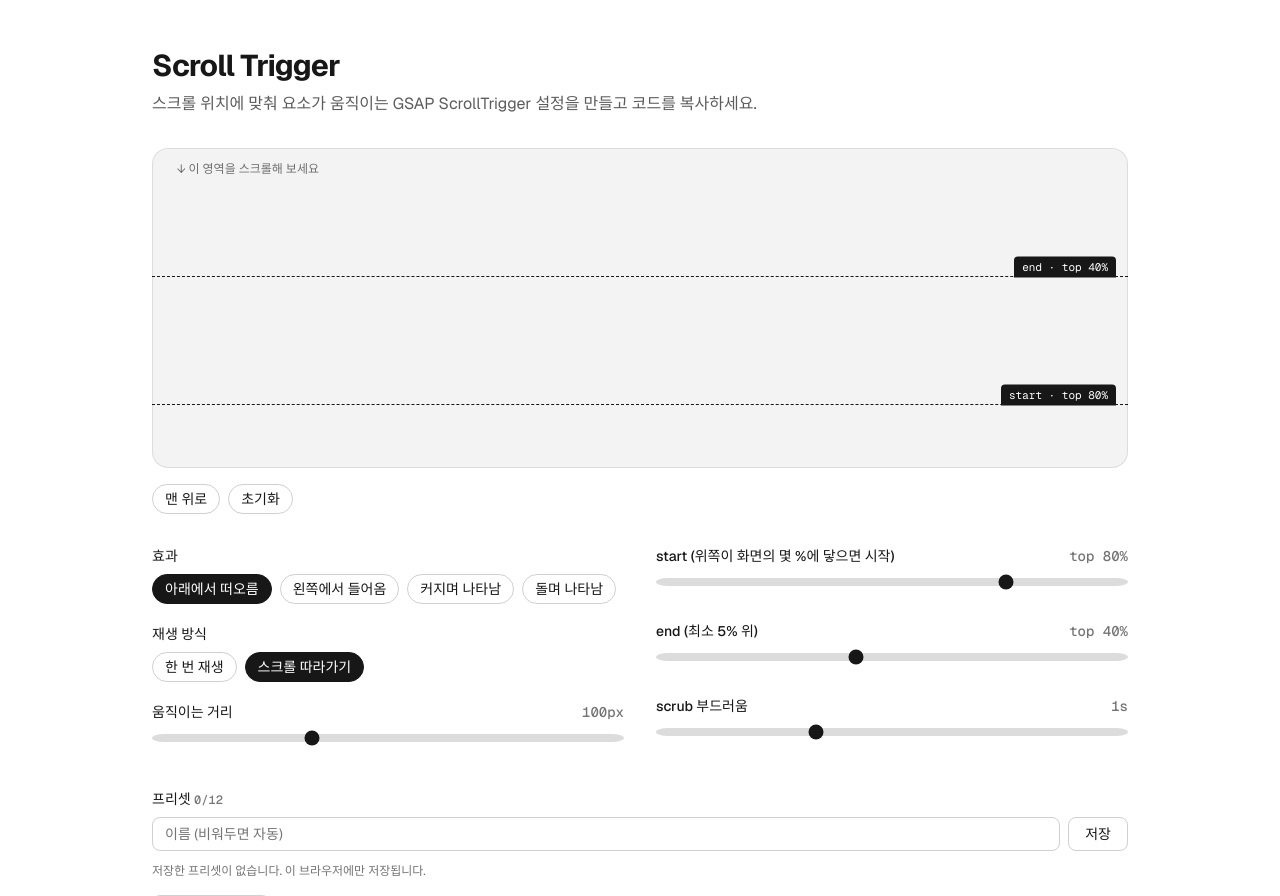
Test case: ScrollTriggerPlayground › 한 번 재생으로 바꾸면 toggleActions가 나오고 end와 scrub 슬라이더가 꺼진다
Click the button "한 번 재생": (194, 667) x1=152 y1=652 x2=236 y2=682
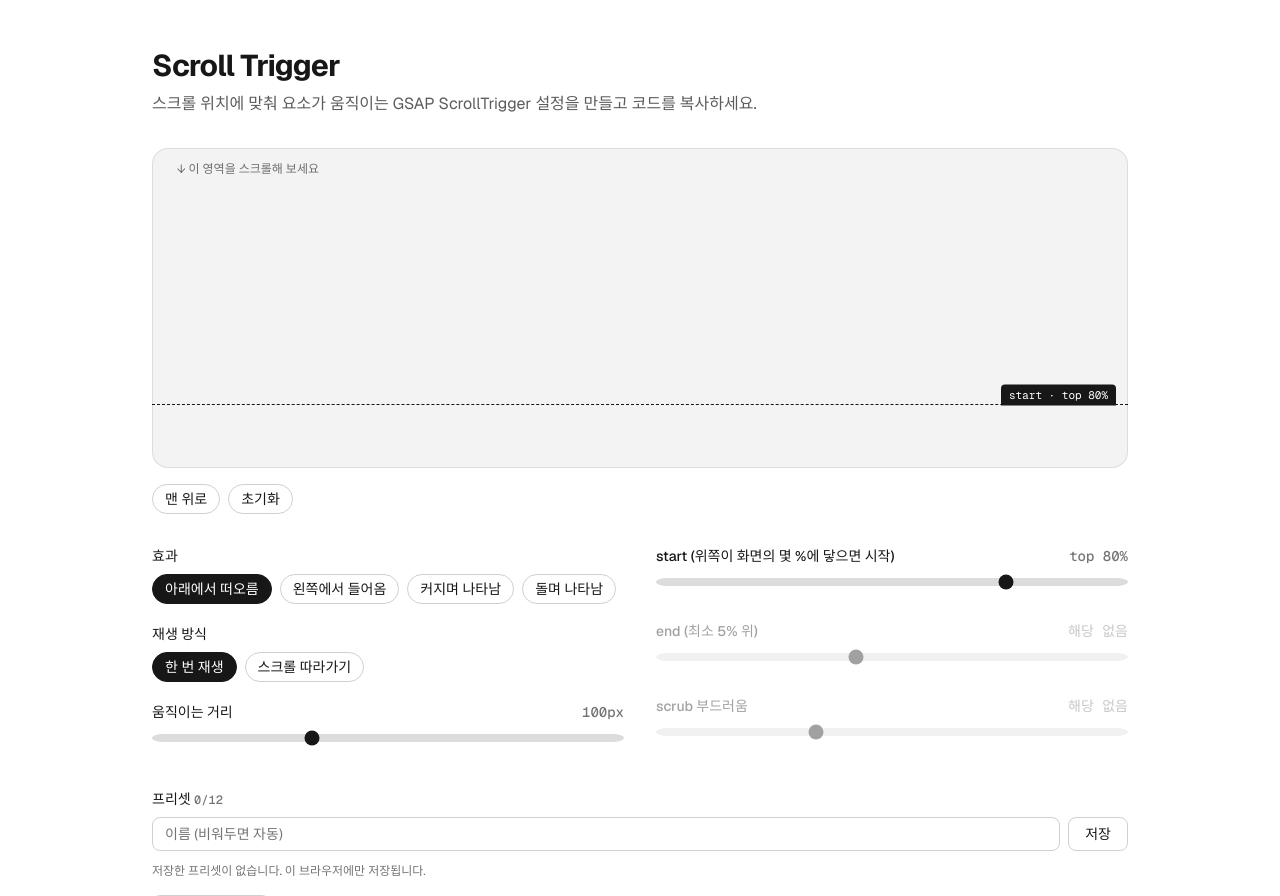
Expected: the text "scrub" is gone
Expected: the slider labelled "end (최소 5% 위) 해당 없음" is disabled, x1=656 y1=645 x2=1128 y2=669
Expected: the slider labelled "scrub 부드러움 해당 없음" is disabled, x1=656 y1=720 x2=1128 y2=744
